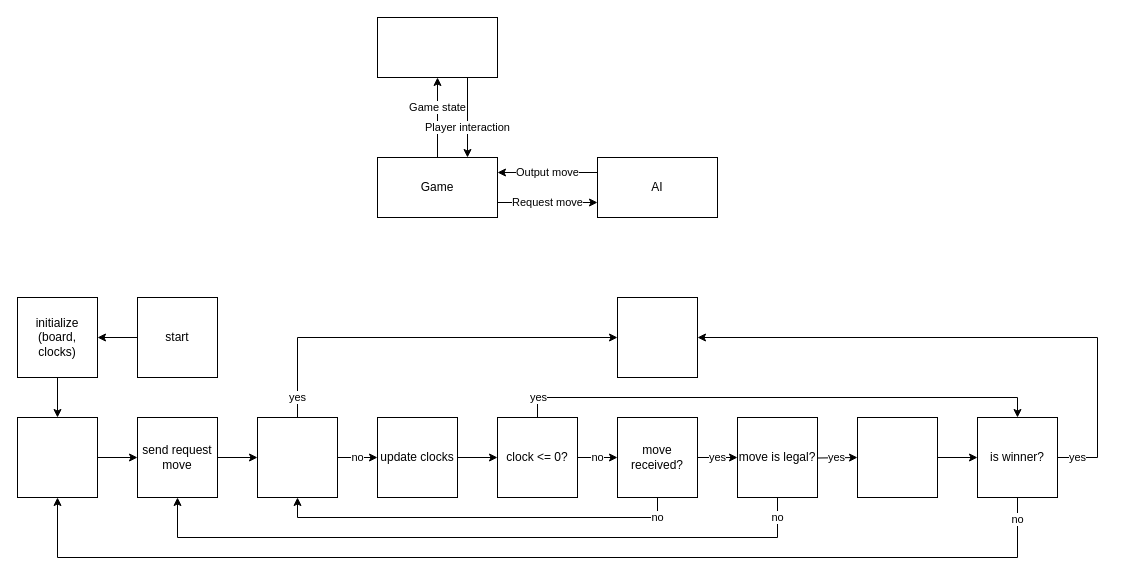
This 1123x583 diagram has some shape labels left out. Each missing label, with the box of its shape:
end game: (616, 296, 698, 378)
is closing?: (256, 416, 338, 498)
send board state: (16, 416, 98, 498)
UI: (376, 16, 498, 78)
update game state: (856, 416, 938, 498)
